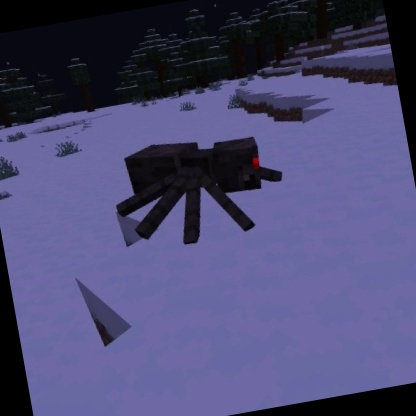spider: (102, 118, 296, 261)
